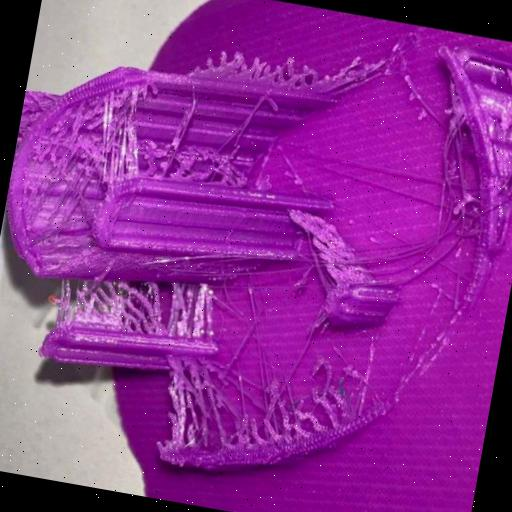stringing: (60, 272, 139, 334), (90, 98, 144, 186), (136, 282, 214, 342), (431, 158, 477, 248), (158, 364, 206, 450), (231, 406, 288, 456), (286, 398, 327, 440)
